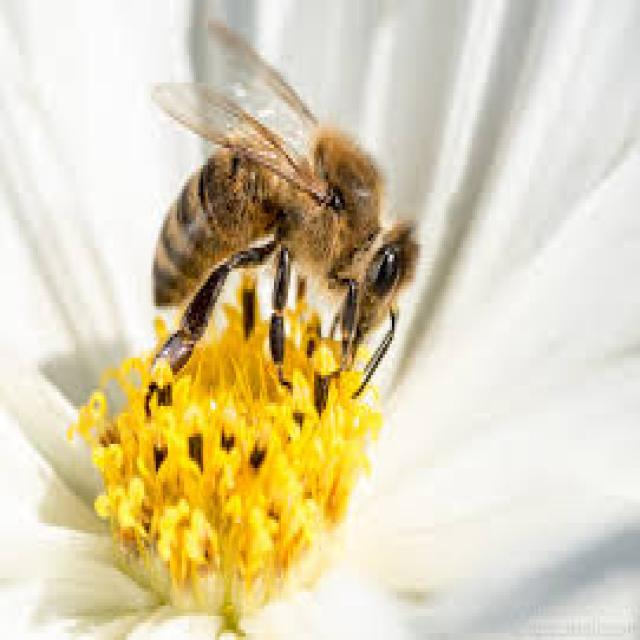Bees: (148, 18, 422, 413)
